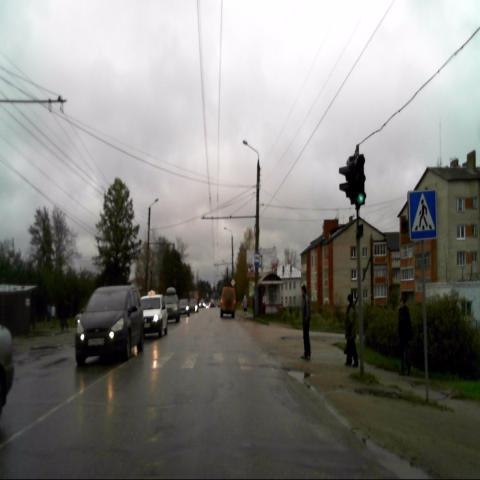5_19_1: (406, 188, 438, 241)
